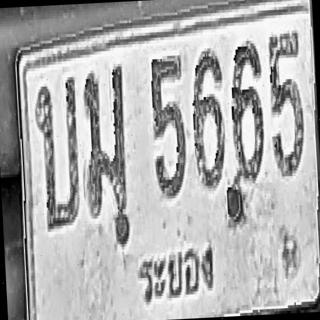A26: (33, 74, 82, 229)
A33: (80, 65, 130, 223)
N05: (267, 29, 306, 178), (149, 54, 188, 198)
N06: (221, 39, 267, 189), (188, 48, 228, 189)
P53: (132, 232, 222, 312)
